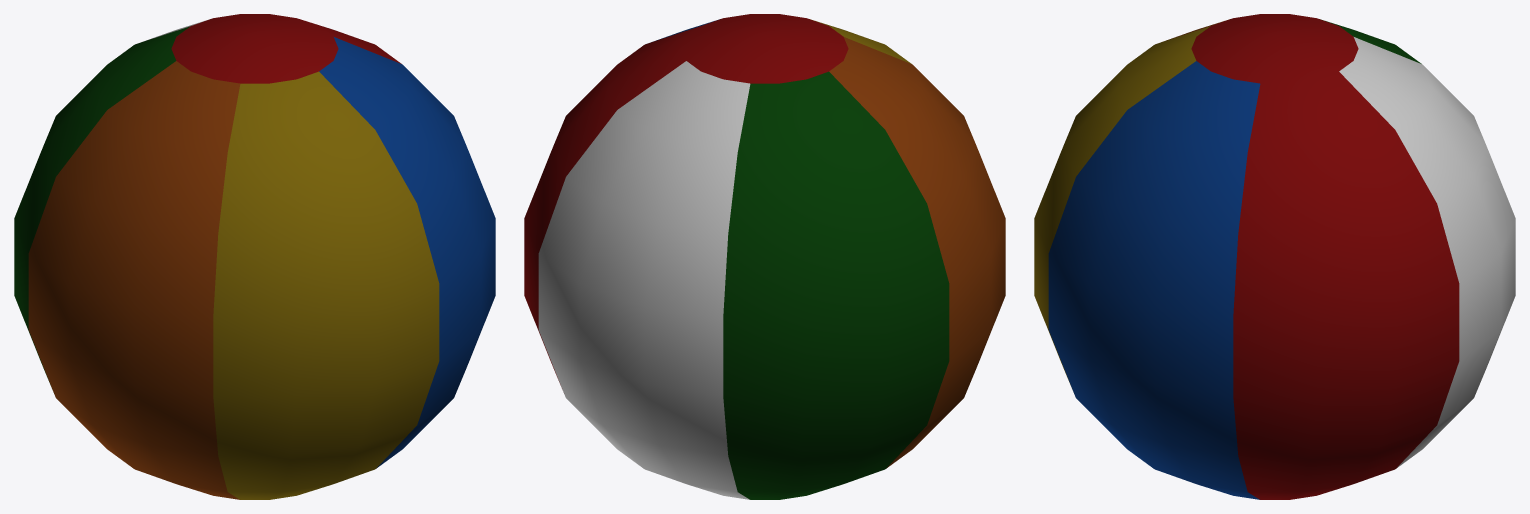
The model's file is BeachBall.FBX.
The picture shows the model from 3 angles, left to right: view 1: azimuth 30°, elevation 25°; view 2: azimuth 150°, elevation 25°; view 3: azimuth 270°, elevation 25°; orthographic projection.
Visible parts, largest first — view 1: Sphere010; view 2: Sphere010; view 3: Sphere010.
Part boxes in pixels (bbox=[...]): Sphere010: bbox=[14, 14, 495, 499]; Sphere010: bbox=[524, 14, 1005, 499]; Sphere010: bbox=[1034, 14, 1515, 499].
Size of the model in its own units: 39.26 by 39.87 by 40.48.
